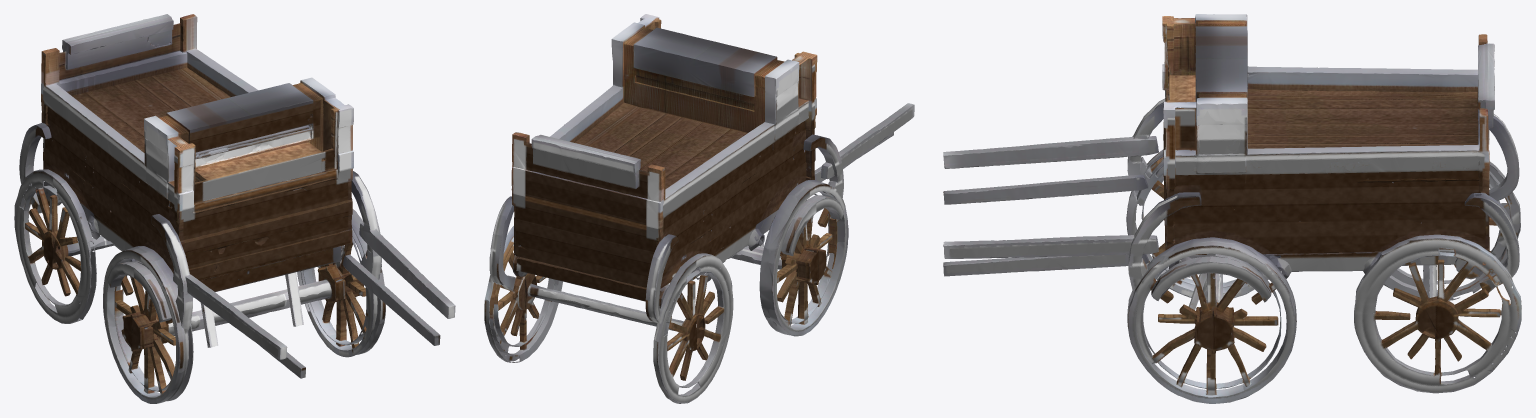
The model's file is scene-3-objects-9-glbData-14cd68bb84d9.glb.
3 renders of one model, left to right at view 1: azimuth 30°, elevation 25°; view 2: azimuth 150°, elevation 25°; view 3: azimuth 270°, elevation 25°, orthographic. The views are drawn at different scales.
Parts seen in each view (by area): view 1: Horse_Wagon_Optimized; view 2: Horse_Wagon_Optimized; view 3: Horse_Wagon_Optimized.
Part boxes in pixels (<box>): Horse_Wagon_Optimized: <box>14,14,455,403</box>; Horse_Wagon_Optimized: <box>484,14,914,403</box>; Horse_Wagon_Optimized: <box>943,14,1521,403</box>.
Size of the model in its own units: 2.25 by 2.55 by 4.6.
1 material, 1 textured.
